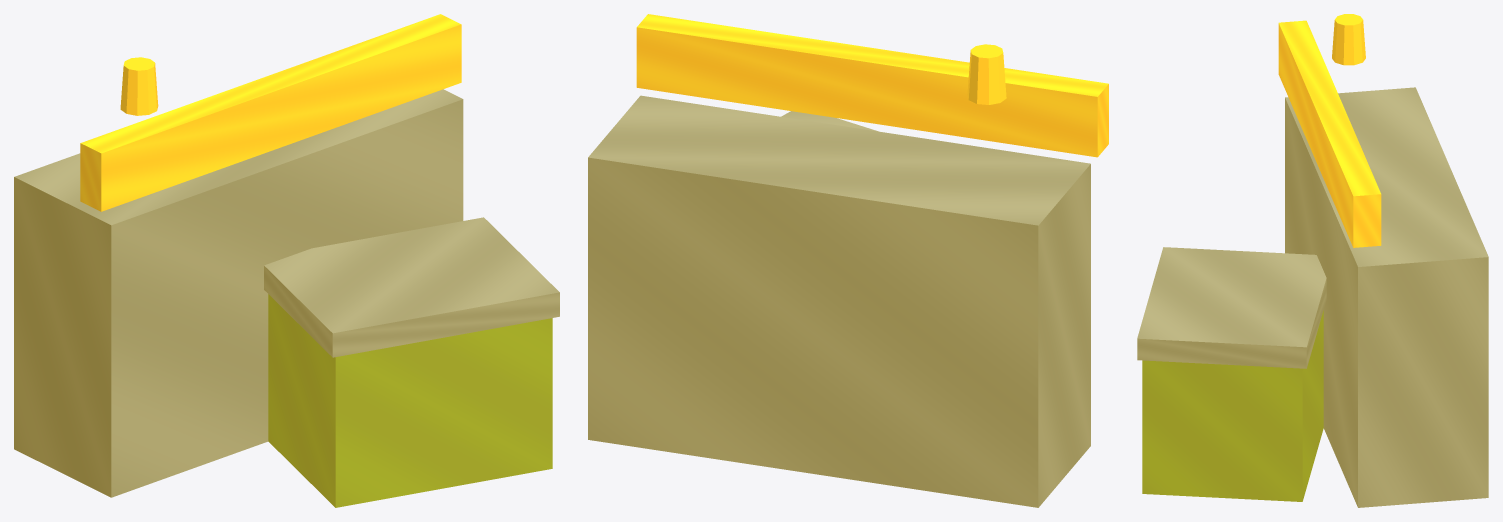
Rendered from apocalypse-supply-barricade.glb.
3 views of the same model, side by side, from view 1: azimuth 30°, elevation 25°; view 2: azimuth 150°, elevation 25°; view 3: azimuth 270°, elevation 25° (orthographic). The views are drawn at different scales.
Visible parts, largest first — view 1: TS_StageProp_apocalypse-supply-barricade; view 2: TS_StageProp_apocalypse-supply-barricade; view 3: TS_StageProp_apocalypse-supply-barricade.
Boxes of the visible parts, bbox=[...] form: TS_StageProp_apocalypse-supply-barricade: bbox=[14, 14, 559, 507]; TS_StageProp_apocalypse-supply-barricade: bbox=[588, 14, 1108, 507]; TS_StageProp_apocalypse-supply-barricade: bbox=[1137, 14, 1488, 507].
Bounding box in the file's own units: 0.8962 × 0.805 × 0.741.
1 material, 1 textured.
